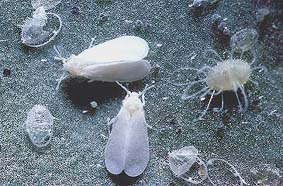whitefly: (53, 34, 150, 98), (104, 80, 149, 178)
